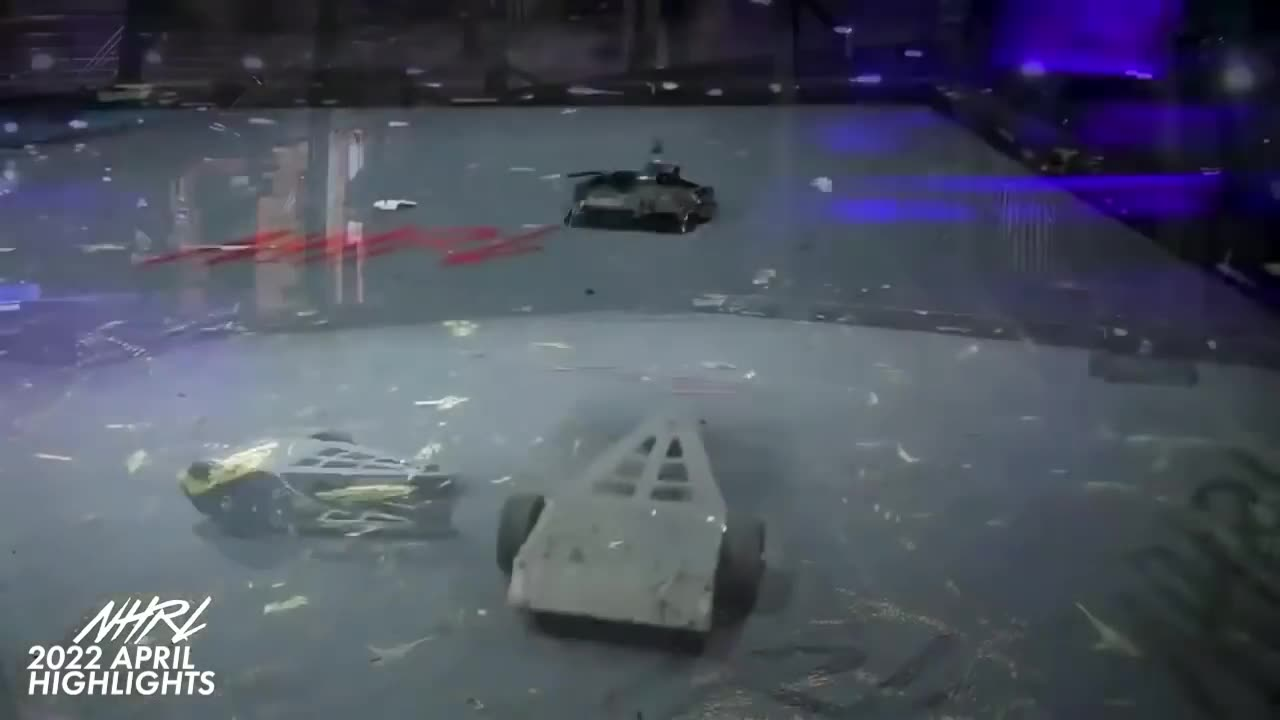combatbot: (495, 400, 772, 635), (186, 431, 470, 540), (560, 166, 722, 235)
debris: (375, 197, 414, 211)
